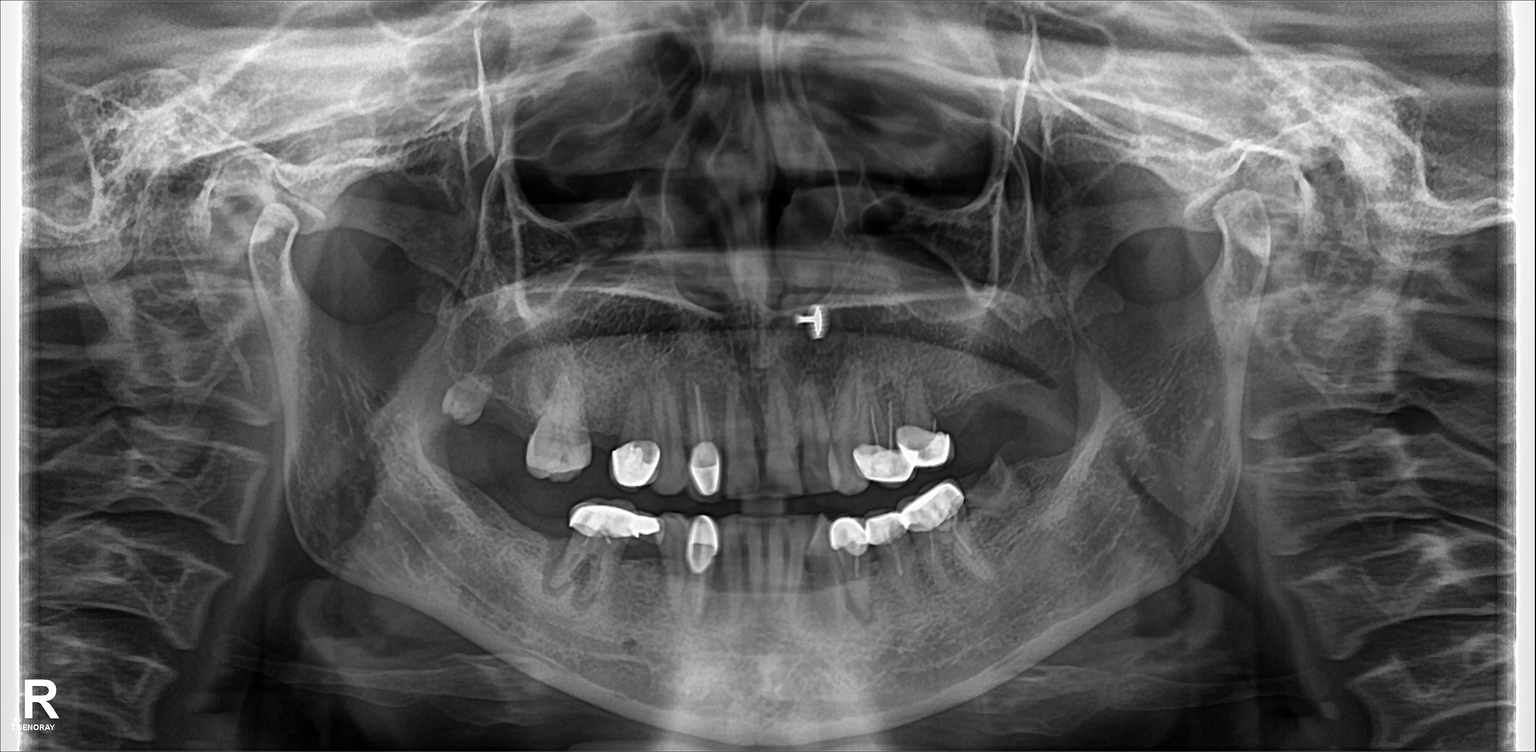Endodontically Treated Tooth: (579, 504, 630, 609), (916, 480, 962, 588), (693, 508, 731, 617), (834, 516, 872, 617), (628, 512, 666, 612), (873, 508, 910, 602), (689, 396, 724, 493), (864, 391, 895, 480)
Missing Tooth: (1034, 342, 1071, 438), (447, 463, 481, 565), (492, 378, 529, 460), (531, 495, 565, 572), (991, 357, 1025, 434), (499, 477, 526, 557), (957, 374, 985, 447), (1043, 456, 1071, 509)
Retained Root: (438, 372, 489, 447), (976, 450, 1024, 511)
